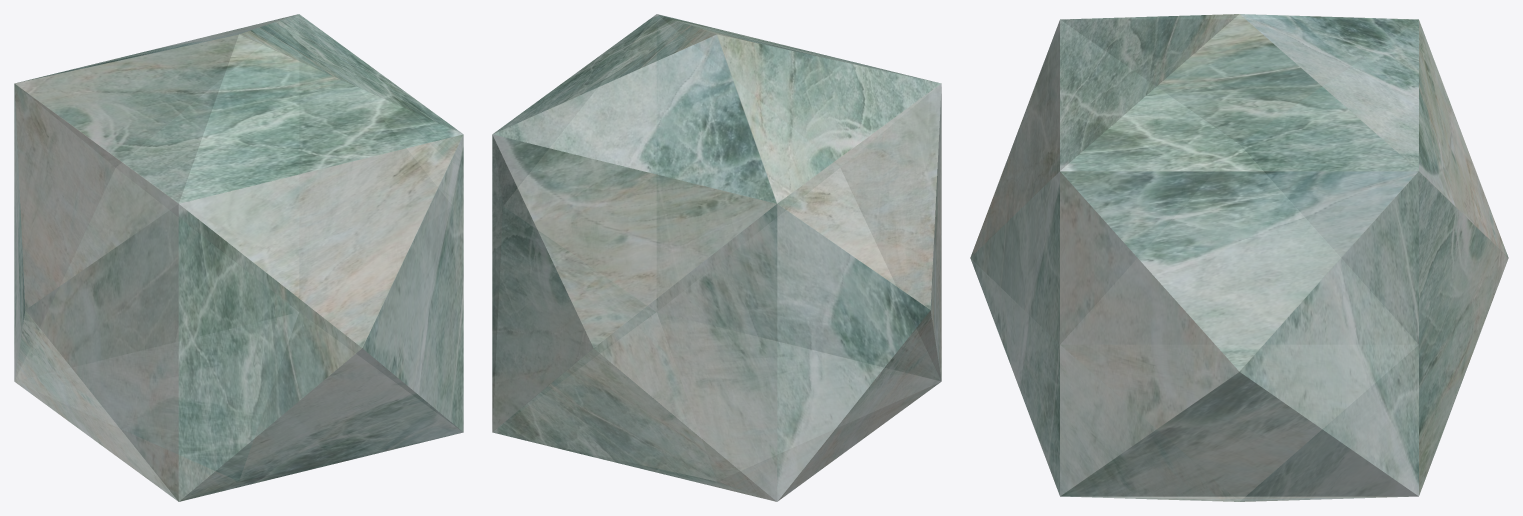
Rendered from TetrakisHexahedron.obj.
3 views of the same model, side by side, from view 1: azimuth 30°, elevation 25°; view 2: azimuth 150°, elevation 25°; view 3: azimuth 270°, elevation 25° (orthographic). The views are drawn at different scales.
Bounding box in the file's own units: 3.18 × 3.18 × 3.18.
1 material, 1 textured.
